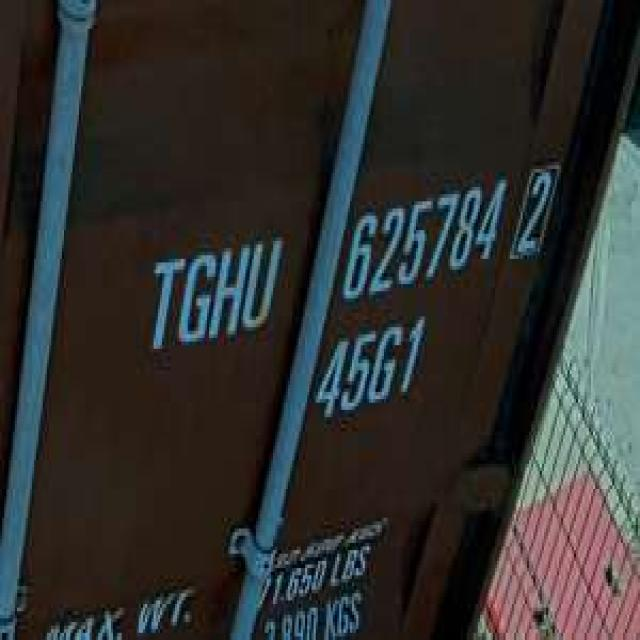dv: (510, 151, 561, 270)
owner: (141, 223, 284, 359)
serial: (335, 169, 506, 306)
size: (311, 313, 431, 428)
